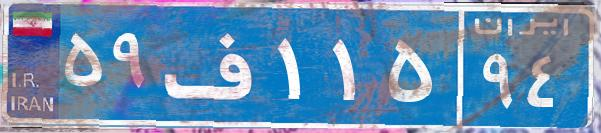1: (273, 28, 330, 110), (330, 28, 385, 110)
4: (525, 38, 570, 115)
5: (385, 28, 445, 110), (57, 26, 110, 107)
9: (475, 38, 525, 113), (110, 28, 158, 105)
ف: (158, 15, 273, 115)
